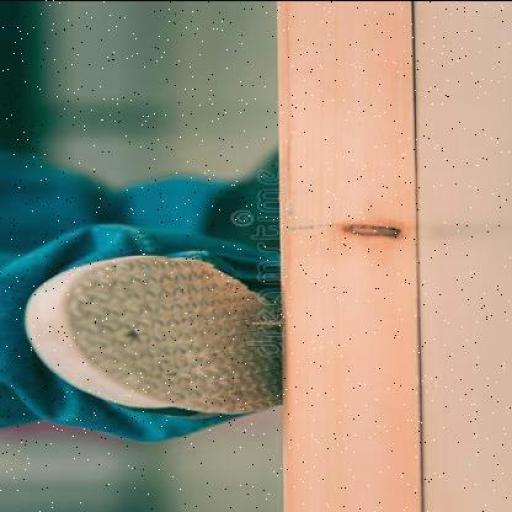safety_shoe: (33, 256, 285, 418)
